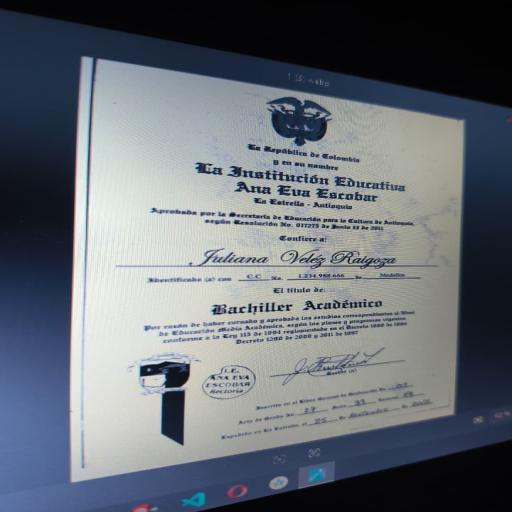bachillerato: (178, 292, 401, 323)
diploma: (71, 53, 455, 483)
escudo: (249, 89, 358, 157)
firma: (263, 340, 408, 393)
institucion: (173, 152, 420, 213)
nombre: (178, 237, 420, 276)
